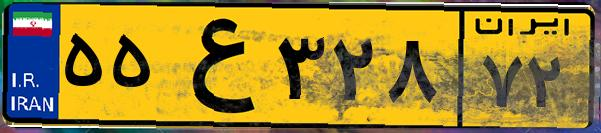2: (330, 28, 385, 110), (525, 38, 570, 115)
3: (270, 28, 330, 110)
5: (57, 26, 110, 100), (110, 28, 158, 98)
7: (475, 38, 525, 113)
8: (385, 28, 445, 110)
ع: (158, 12, 270, 120)
